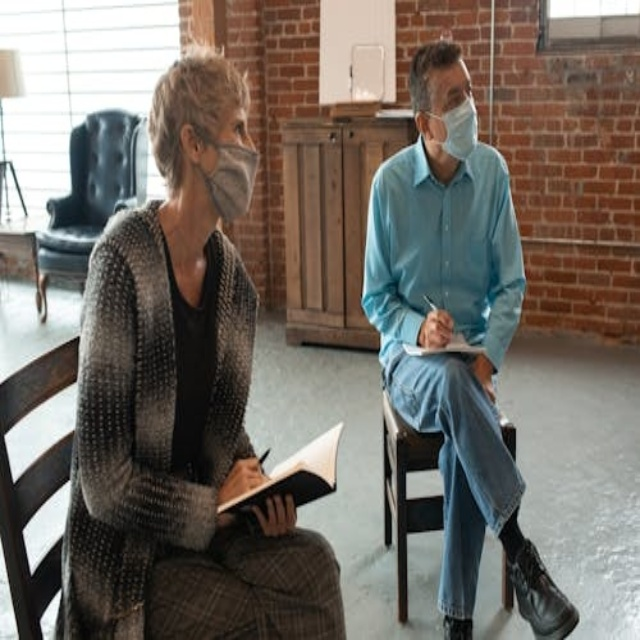Mascara: (193, 129, 259, 224), (426, 93, 478, 160)
Sin_gafas: (430, 71, 476, 111), (219, 110, 255, 142)
Sin_guantes: (211, 448, 276, 513), (422, 300, 461, 352)
